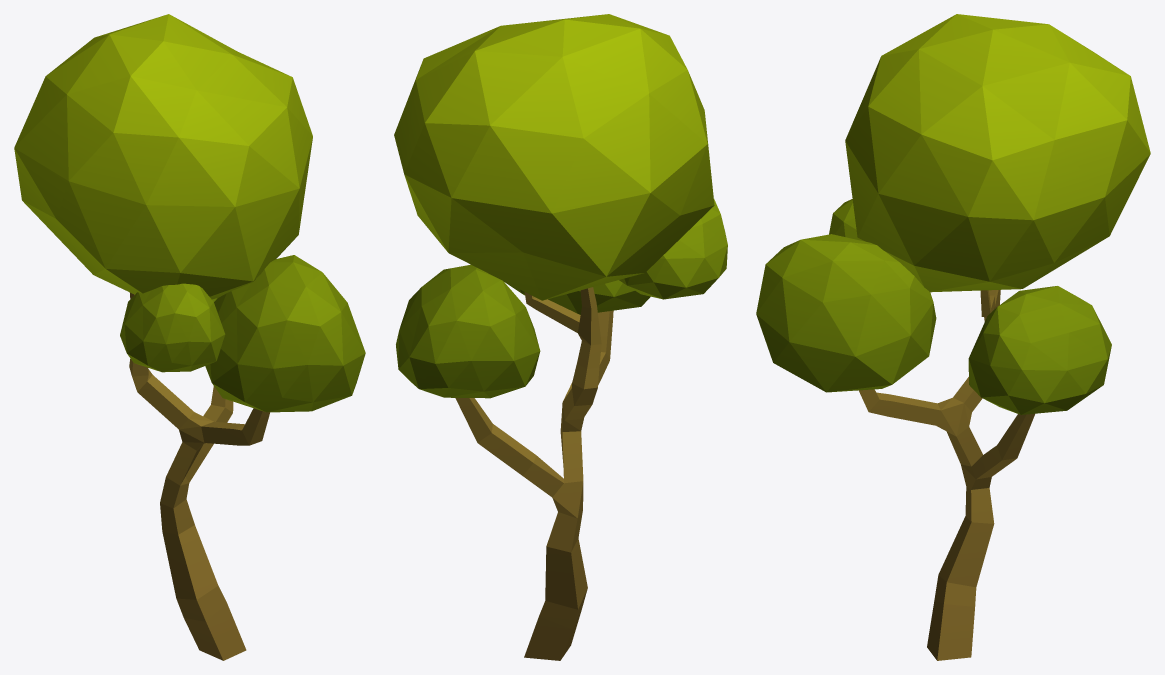
The model's file is tree_2.glb.
3 views of the same model, side by side, from view 1: azimuth 30°, elevation 25°; view 2: azimuth 150°, elevation 25°; view 3: azimuth 270°, elevation 25° (orthographic). The views are drawn at different scales.
Parts seen in each view (by area): view 1: tree_2; view 2: tree_2; view 3: tree_2.
Part boxes in pixels (box(x1,y1,x2,y2)): tree_2: box(14, 14, 365, 660); tree_2: box(394, 14, 727, 660); tree_2: box(756, 14, 1150, 660).
Size of the model in its own units: 2.29 by 5.24 by 3.1.
Materials: 1 (1 with a texture image).
